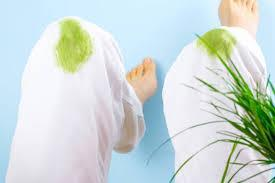earth: (57, 21, 92, 72), (204, 31, 232, 52)
